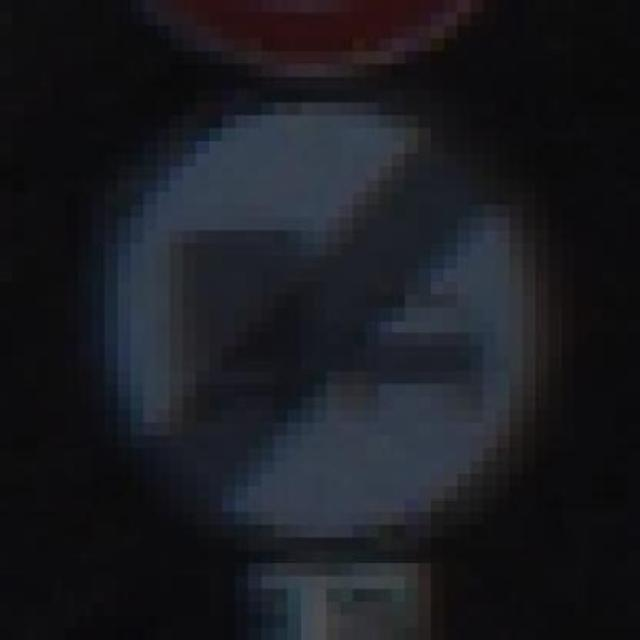Overtaking by trucks is prohibited: (26, 76, 614, 538)
